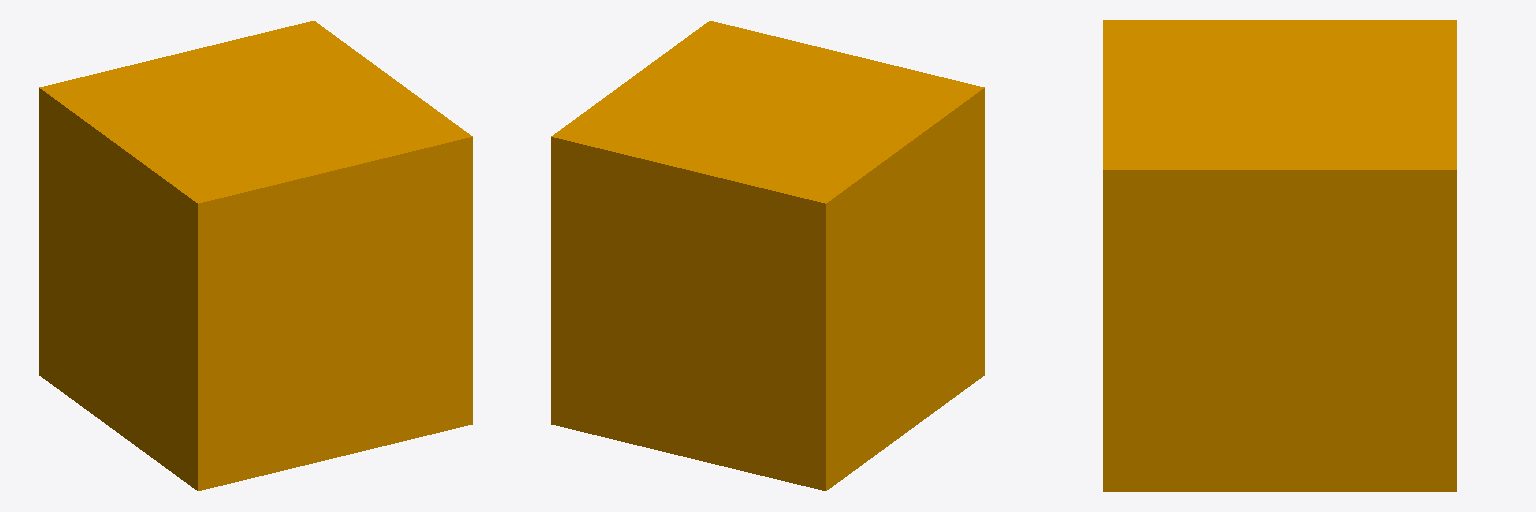
The robot description file, URDF, robot "CheckerBox":
<?xml version="1.0"?>

<robot name="CheckerBox">
  <link name="Box">
    <visual>
      <geometry>
        <mesh filename="package://tms_ss_kinect_v2/model/checker_box/checker_box.dae"/>
      </geometry>
      <origin xyz="0.0 0.0 0.0" rpy="0.0 0.0 0.0"/>
    </visual>
  </link>
</robot>

--- Render facts (derived) ---
Views: 3 orthographic renders of the robot side by side, from view 1: azimuth 30°, elevation 25°; view 2: azimuth 150°, elevation 25°; view 3: azimuth 270°, elevation 25°.
Robot: CheckerBox — 1 links, 0 joints (none); root link Box; default pose: all joints at 0.
Visible links, largest first — view 1: Box; view 2: Box; view 3: Box.
Link boxes in pixels (x1,y1,x2,y2): Box: (39,21,472,490); Box: (551,21,984,490); Box: (1103,20,1456,491).
Size in the robot's own frame: 0.1 by 0.1 by 0.1 metres.
1 mesh visuals loaded from 1 distinct referenced files (1 Collada DAE).